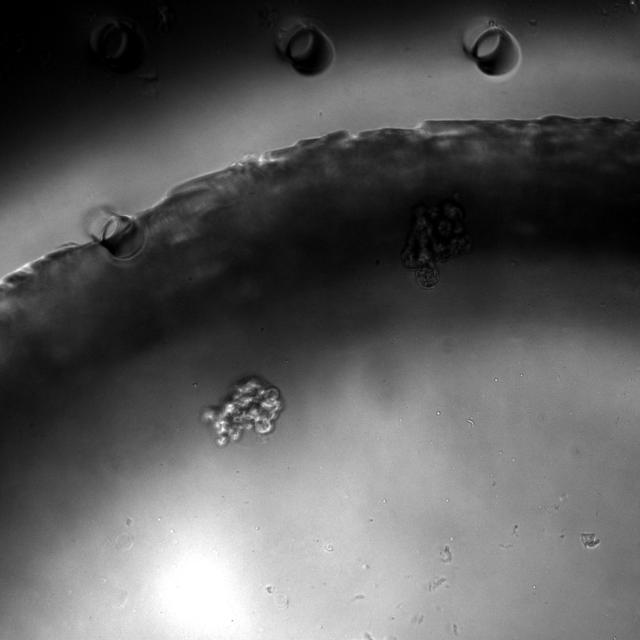organoid: (401, 199, 472, 288), (202, 376, 282, 446)
